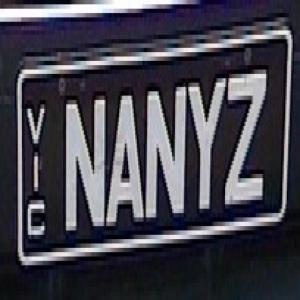Plate: (10, 17, 294, 277)
